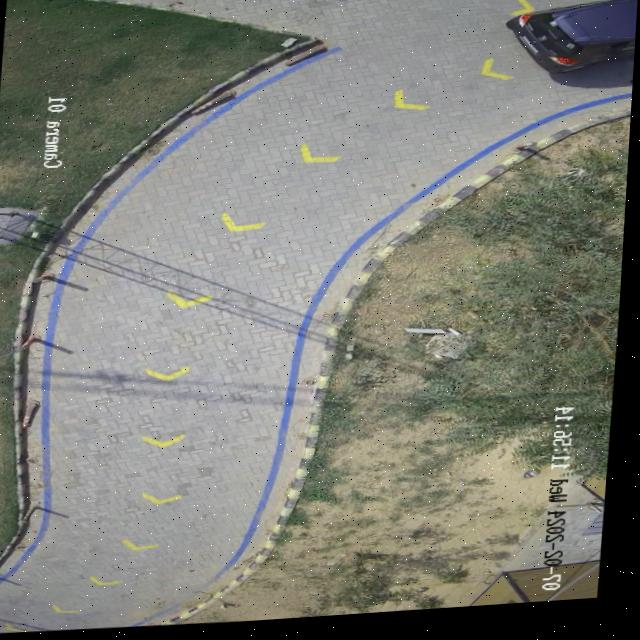car: (506, 0, 638, 82)
